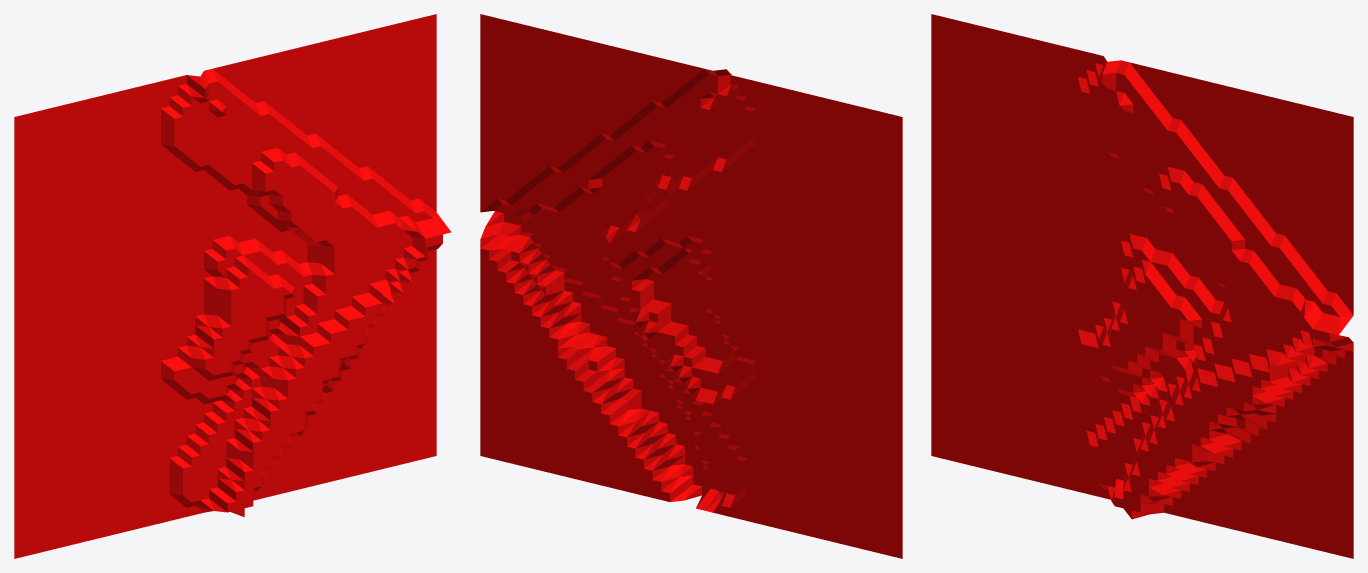
File: cut.gltf
3 views of the same model, side by side, from view 1: azimuth 30°, elevation 25°; view 2: azimuth 150°, elevation 25°; view 3: azimuth 330°, elevation 25° (orthographic).
Parts seen in each view (by area): view 1: Node; view 2: Node; view 3: Node.
Part boxes in pixels (x1=…): Node: x1=14, y1=14, x2=450, y2=558; Node: x1=480, y1=14, x2=902, y2=558; Node: x1=931, y1=14, x2=1353, y2=558.
Size of the model in its own units: 49 by 49 by 3.
